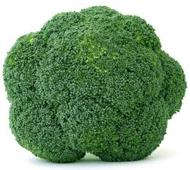broccoli: (2, 6, 188, 165)
